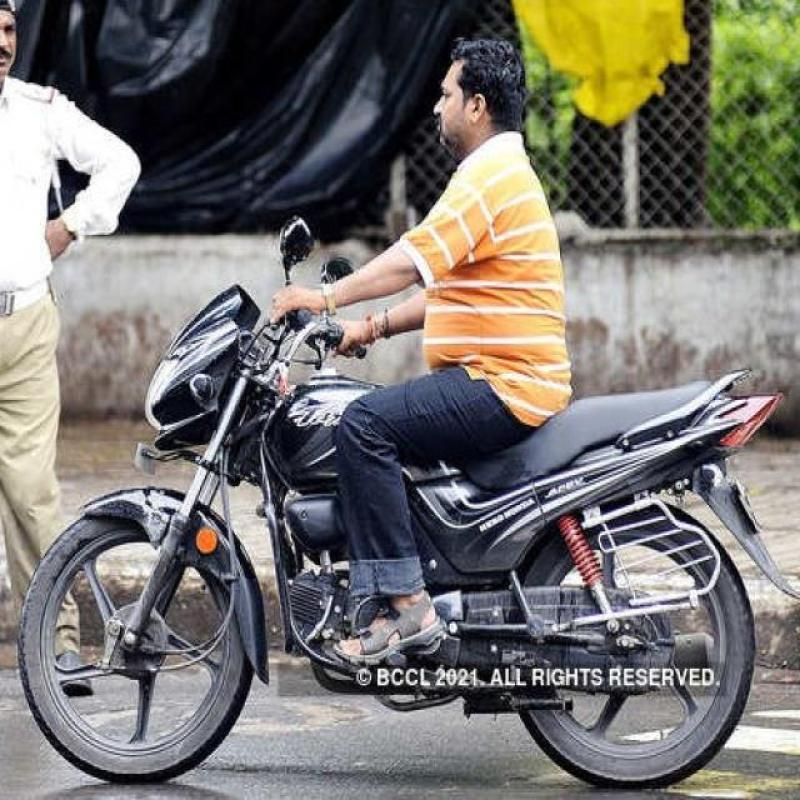nohelmet: (432, 41, 530, 159)
